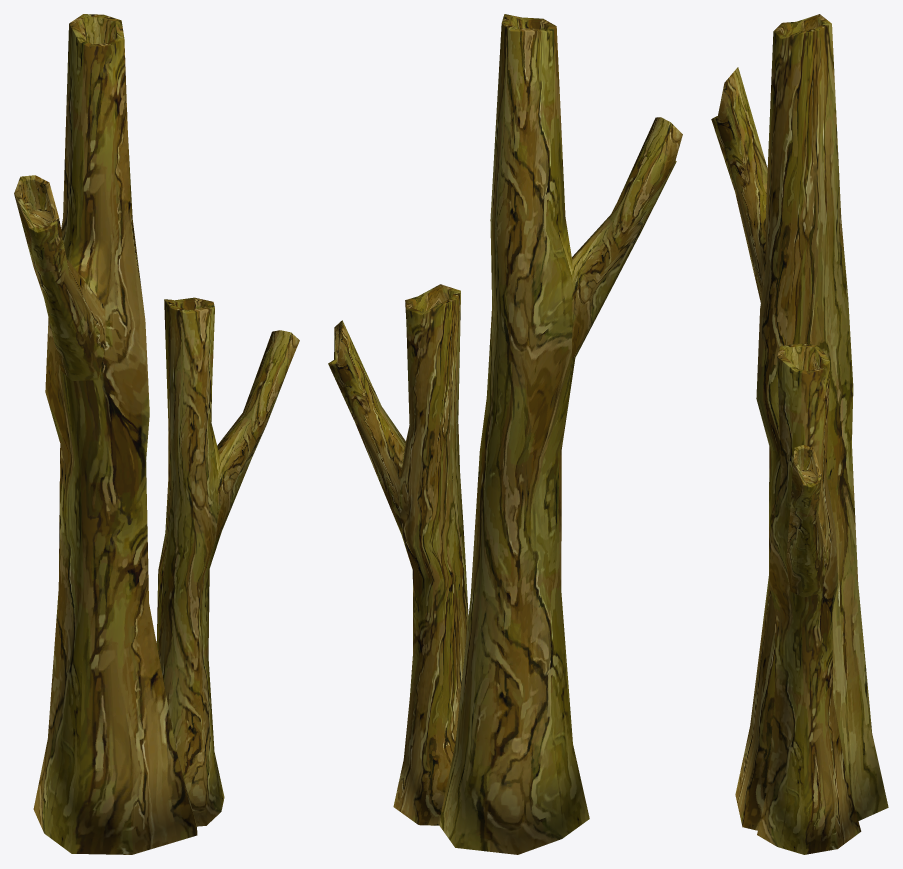
The model's file is hut_env_treestump_01.glb.
3 views of the same model, side by side, from view 1: azimuth 30°, elevation 25°; view 2: azimuth 150°, elevation 25°; view 3: azimuth 270°, elevation 25° (orthographic). The views are drawn at different scales.
Visible parts, largest first — view 1: hut_env_treestump_01; view 2: hut_env_treestump_01; view 3: hut_env_treestump_01.
Part boxes in pixels (x1,y1,x2,y2): hut_env_treestump_01: [14, 14, 299, 854]; hut_env_treestump_01: [328, 14, 682, 854]; hut_env_treestump_01: [711, 14, 888, 854].
Size of the model in its own units: 0.1127 by 0.2726 by 0.0567.
1 material, 1 textured.
